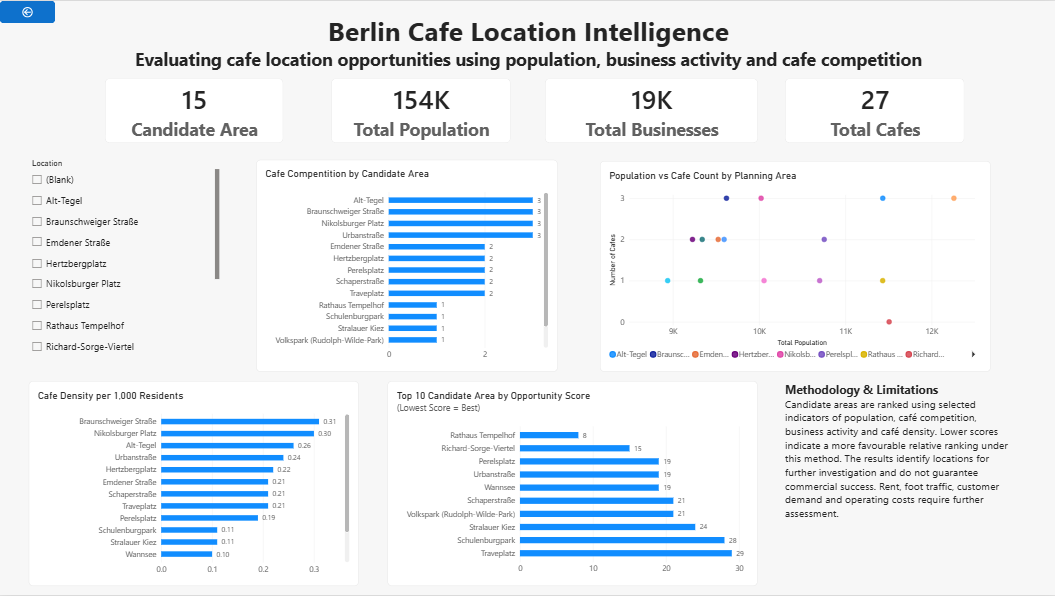

This screenshot's page, from the dashboard's own definition file:
{"tool":"powerbi","page":{"name":"Exicutive Overview","canvas":[1920,1080],"ordinal":0},"visuals":[{"type":"cardVisual","fields":{"Data":["Sum(cafe_opportunity_ranking.population)"]},"box":[602.4,141.5,326.8,117.1],"z":0},{"type":"cardVisual","fields":{"Data":["Sum(cafe_opportunity_ranking.total_businesses)"]},"box":[990.2,141.5,387.8,117.1],"z":1000},{"type":"cardVisual","fields":{"Data":["Count(cafe_opportunity_ranking.RAUMID)"]},"box":[190.2,141.5,324.4,117.1],"z":2000},{"type":"cardVisual","fields":{"Data":["Sum(cafe_opportunity_ranking.cafe_count)"]},"box":[1426.8,141.5,326.8,117.1],"z":3000},{"type":"clusteredBarChart","title":"Cafe Compentition by Candidate Area","fields":{"Category":["cafe_opportunity_ranking.Planungsraum"],"Y":["Sum(cafe_opportunity_ranking.cafe_count)"]},"box":[465.9,287.8,547.9,385.4],"z":4000},{"type":"clusteredBarChart","title":"Cafe Density per 1,000 Residents","fields":{"Category":["cafe_opportunity_ranking.Planungsraum"],"Y":["Sum(cafe_opportunity_ranking.cafes_per_1000)"]},"box":[51.2,690.2,600,373.2],"z":5000},{"type":"clusteredBarChart","title":"Top 10 Candidate Area by Opportunity Score","fields":{"Category":["cafe_opportunity_ranking.Planungsraum"],"Y":["Sum(cafe_opportunity_ranking.total_rank_score)"]},"box":[704.9,690.2,673.2,373.2],"z":6000},{"type":"textbox","box":[1426.8,690.2,414.6,253.7],"z":7000},{"type":"scatterChart","title":"Population vs Cafe Count by Planning Area","fields":{"Series":["cafe_opportunity_ranking.Planungsraum"],"X":["Sum(cafe_opportunity_ranking.population)"],"Y":["Sum(cafe_opportunity_ranking.cafe_count)"]},"box":[1090.2,290.2,710.4,383.3],"z":8000},{"type":"slicer","title":"Location","fields":{"Values":["cafe_opportunity_ranking.Planungsraum"]},"box":[51.1,287.2,348.9,368.1],"z":9000},{"type":"actionButton","box":[0,0,100,40],"z":10000},{"type":"textbox","box":[168.3,19.5,1585.4,168.3],"z":10001}]}

Visuals, with their boxes on the page's 1920x1080 design canvas (x1, y1, x2, y2). These are canvas units, not pixel positions in the 1055x596 screenshot, which may show the page scaled, cropped or inside an application window:
cardVisual - Sum(cafe_opportunity_ranking.population): <box>602,142,929,259</box>
cardVisual - Sum(cafe_opportunity_ranking.total_businesses): <box>990,142,1378,259</box>
cardVisual - Count(cafe_opportunity_ranking.RAUMID): <box>190,142,515,259</box>
cardVisual - Sum(cafe_opportunity_ranking.cafe_count): <box>1427,142,1754,259</box>
"Cafe Compentition by Candidate Area" clusteredBarChart: <box>466,288,1014,673</box>
"Cafe Density per 1,000 Residents" clusteredBarChart: <box>51,690,651,1063</box>
"Top 10 Candidate Area by Opportunity Score" clusteredBarChart: <box>705,690,1378,1063</box>
textbox: <box>1427,690,1841,944</box>
"Population vs Cafe Count by Planning Area" scatterChart: <box>1090,290,1801,674</box>
"Location" slicer: <box>51,287,400,655</box>
actionButton: <box>0,0,100,40</box>
textbox: <box>168,20,1754,188</box>
